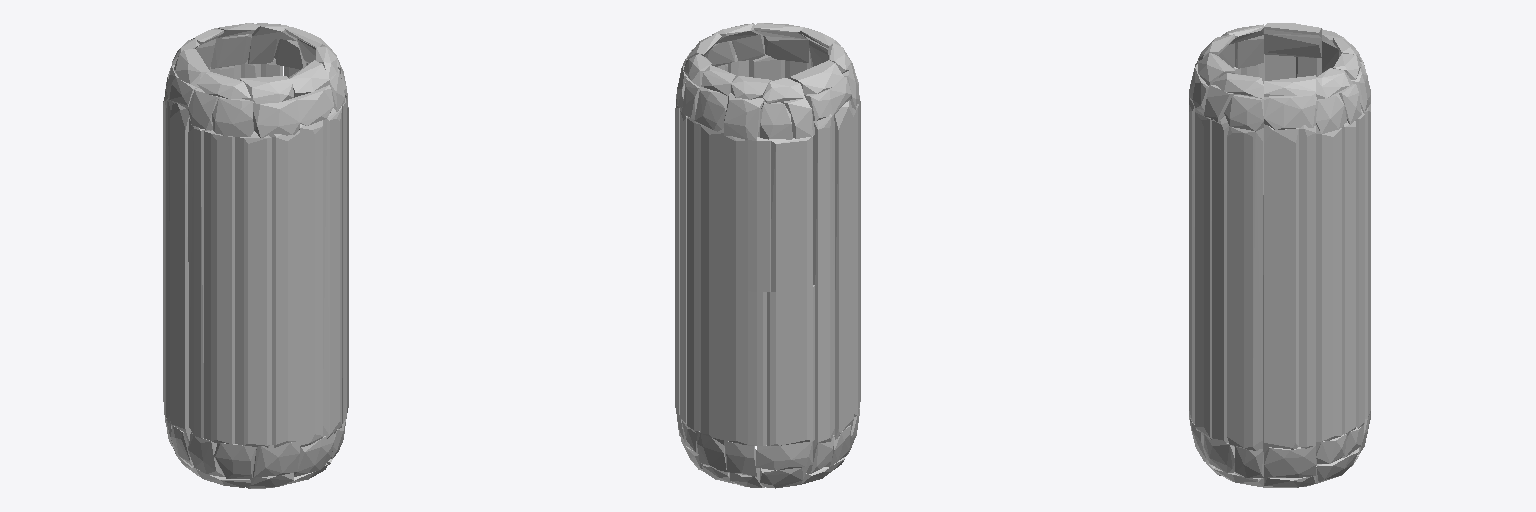
Rendered from carrot_vhacd.obj.
3 renders of one model, left to right at view 1: azimuth 30°, elevation 25°; view 2: azimuth 150°, elevation 25°; view 3: azimuth 270°, elevation 25°, orthographic.
Visible parts, largest first — view 1: convex_30, convex_29, convex_31, convex_37, convex_38, convex_16, convex_28, convex_15, convex_39, convex_33, convex_61, convex_5 (+14 smaller); view 2: convex_53, convex_9, convex_11, convex_15, convex_10, convex_12, convex_16, convex_54, convex_55, convex_28, convex_56, convex_49 (+20 smaller); view 3: convex_40, convex_23, convex_56, convex_38, convex_22, convex_39, convex_55, convex_54, convex_37, convex_53, convex_24, convex_2 (+17 smaller).
Boxes of the visible parts, <box> form: convex_30: <box>235,131,271,447</box>; convex_29: <box>204,130,234,443</box>; convex_31: <box>272,130,299,447</box>; convex_37: <box>299,120,322,447</box>; convex_38: <box>323,106,341,438</box>; convex_16: <box>170,103,190,442</box>; convex_28: <box>188,119,206,438</box>; convex_15: <box>164,93,172,422</box>; convex_39: <box>342,98,346,423</box>; convex_33: <box>253,98,299,137</box>; convex_61: <box>212,97,253,136</box>; convex_5: <box>253,441,299,476</box>; convex_53: <box>699,124,723,444</box>; convex_9: <box>767,285,814,445</box>; convex_11: <box>724,136,770,291</box>; convex_15: <box>813,114,834,450</box>; convex_10: <box>724,287,766,445</box>; convex_12: <box>768,136,812,291</box>; convex_16: <box>834,100,853,439</box>; convex_54: <box>687,117,699,435</box>; convex_55: <box>680,107,687,423</box>; convex_28: <box>852,104,858,416</box>; convex_56: <box>675,99,679,414</box>; convex_49: <box>724,93,764,140</box>; convex_40: <box>1227,127,1263,450</box>; convex_23: <box>1263,124,1298,454</box>; convex_56: <box>1316,127,1341,451</box>; convex_38: <box>1195,109,1211,439</box>; convex_22: <box>1299,125,1315,448</box>; convex_39: <box>1212,116,1229,443</box>; convex_55: <box>1342,121,1355,435</box>; convex_54: <box>1355,109,1364,428</box>; convex_37: <box>1189,98,1194,423</box>; convex_53: <box>1365,104,1370,418</box>; convex_24: <box>1264,92,1317,129</box>; convex_2: <box>1264,446,1316,477</box>.
Size of the model in its own units: 0.8129 by 2.01 by 0.8129.